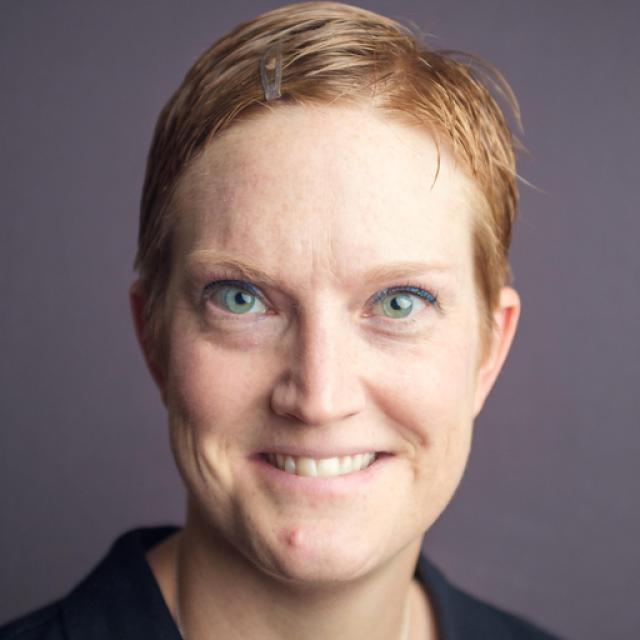Acne: (283, 522, 309, 552)
Dark Circle: (196, 307, 284, 348), (356, 317, 437, 357), (197, 444, 225, 490)
Wrinkle: (366, 387, 428, 451)
